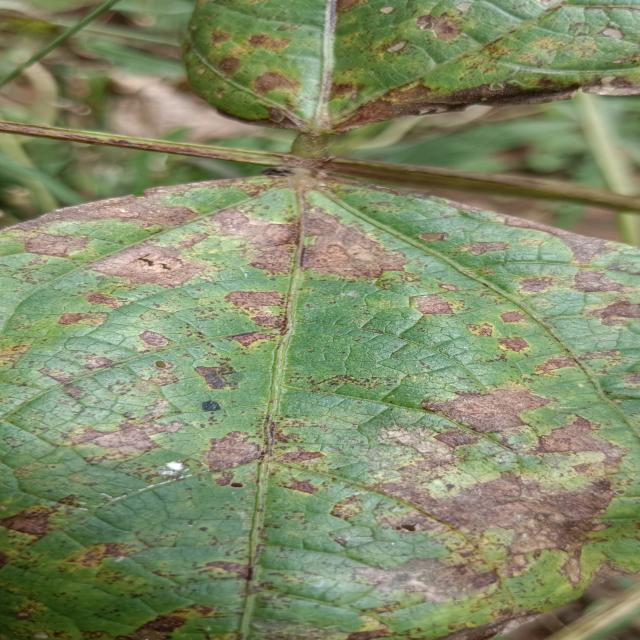Black gram_leaf spot: (0, 162, 640, 640), (175, 0, 640, 137)
